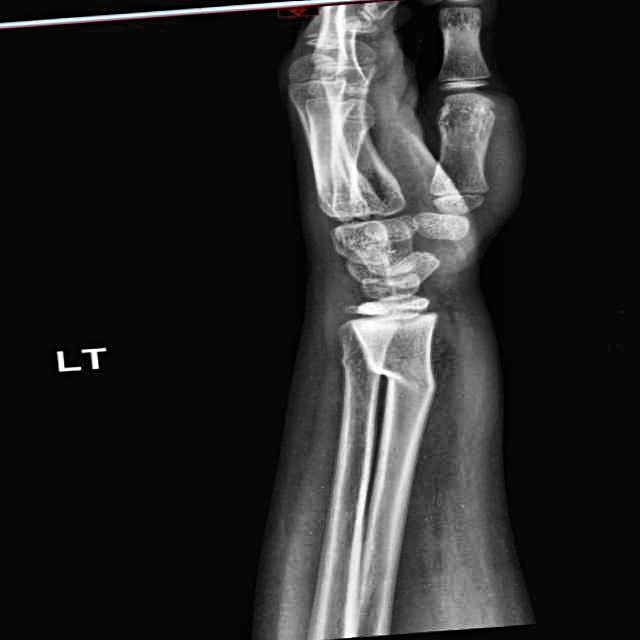Greenstick: (358, 343, 425, 400)
